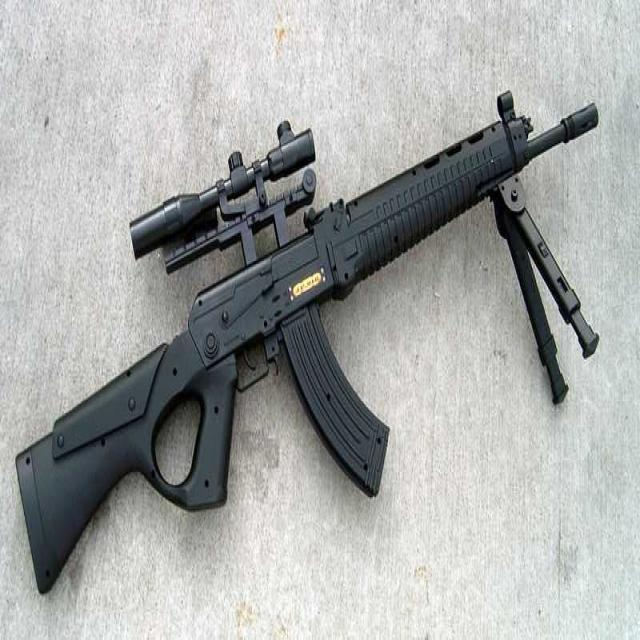RifleTel: (10, 85, 607, 613)
